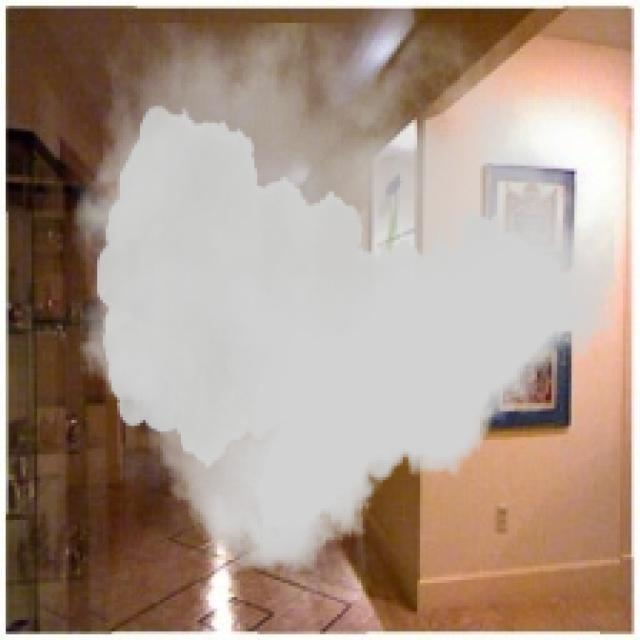smoke: (71, 23, 614, 571)
